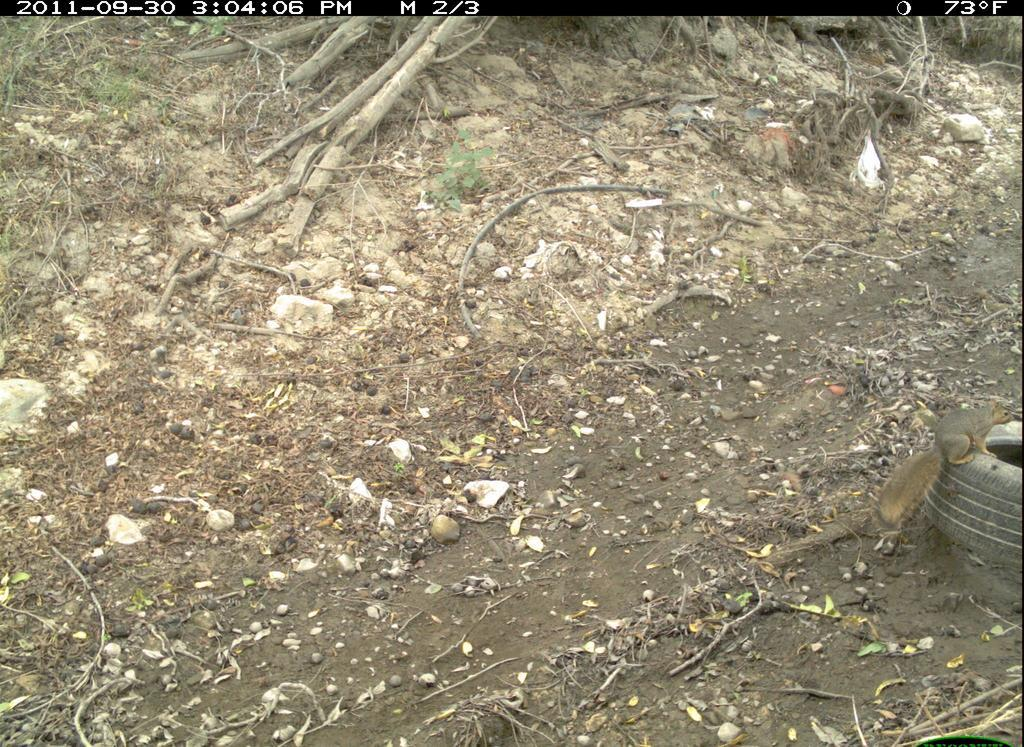squirrel: (882, 390, 1021, 548)
